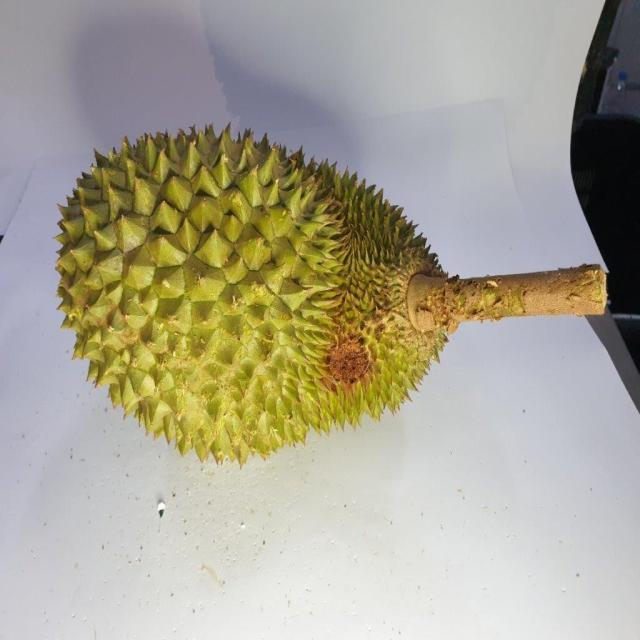defective: (55, 123, 462, 467)
